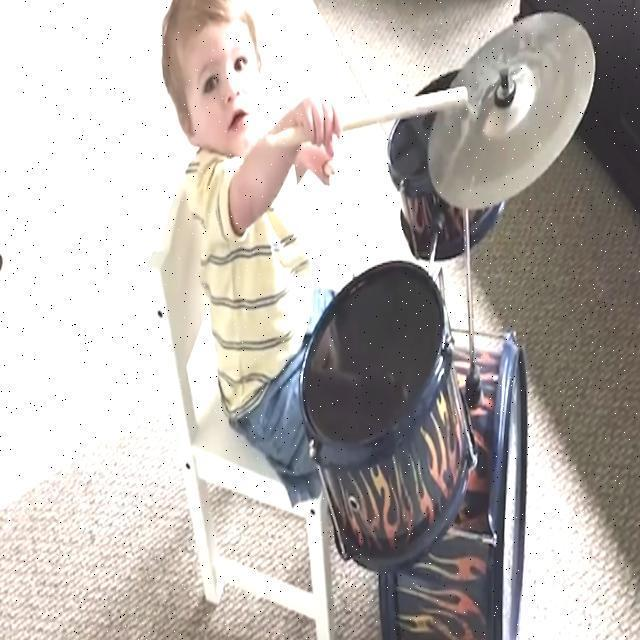child: (161, 0, 345, 506)
